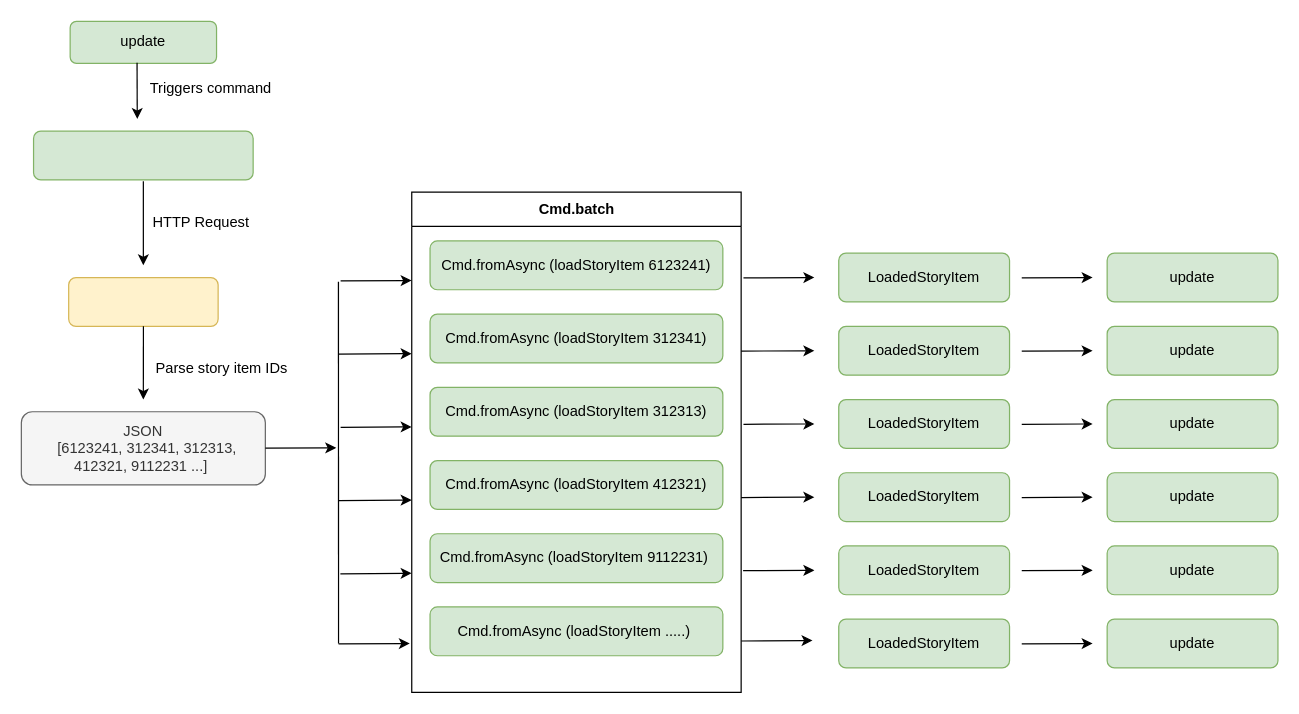
This 1299x714 diagram has some shape labels left out. The centre of each missing label's shape, as x and y in pixels:
"Cmd.fromAsync loadStoryItems" belongs at pixel 142 155.
"Hackernews API" belongs at pixel 142 301.
